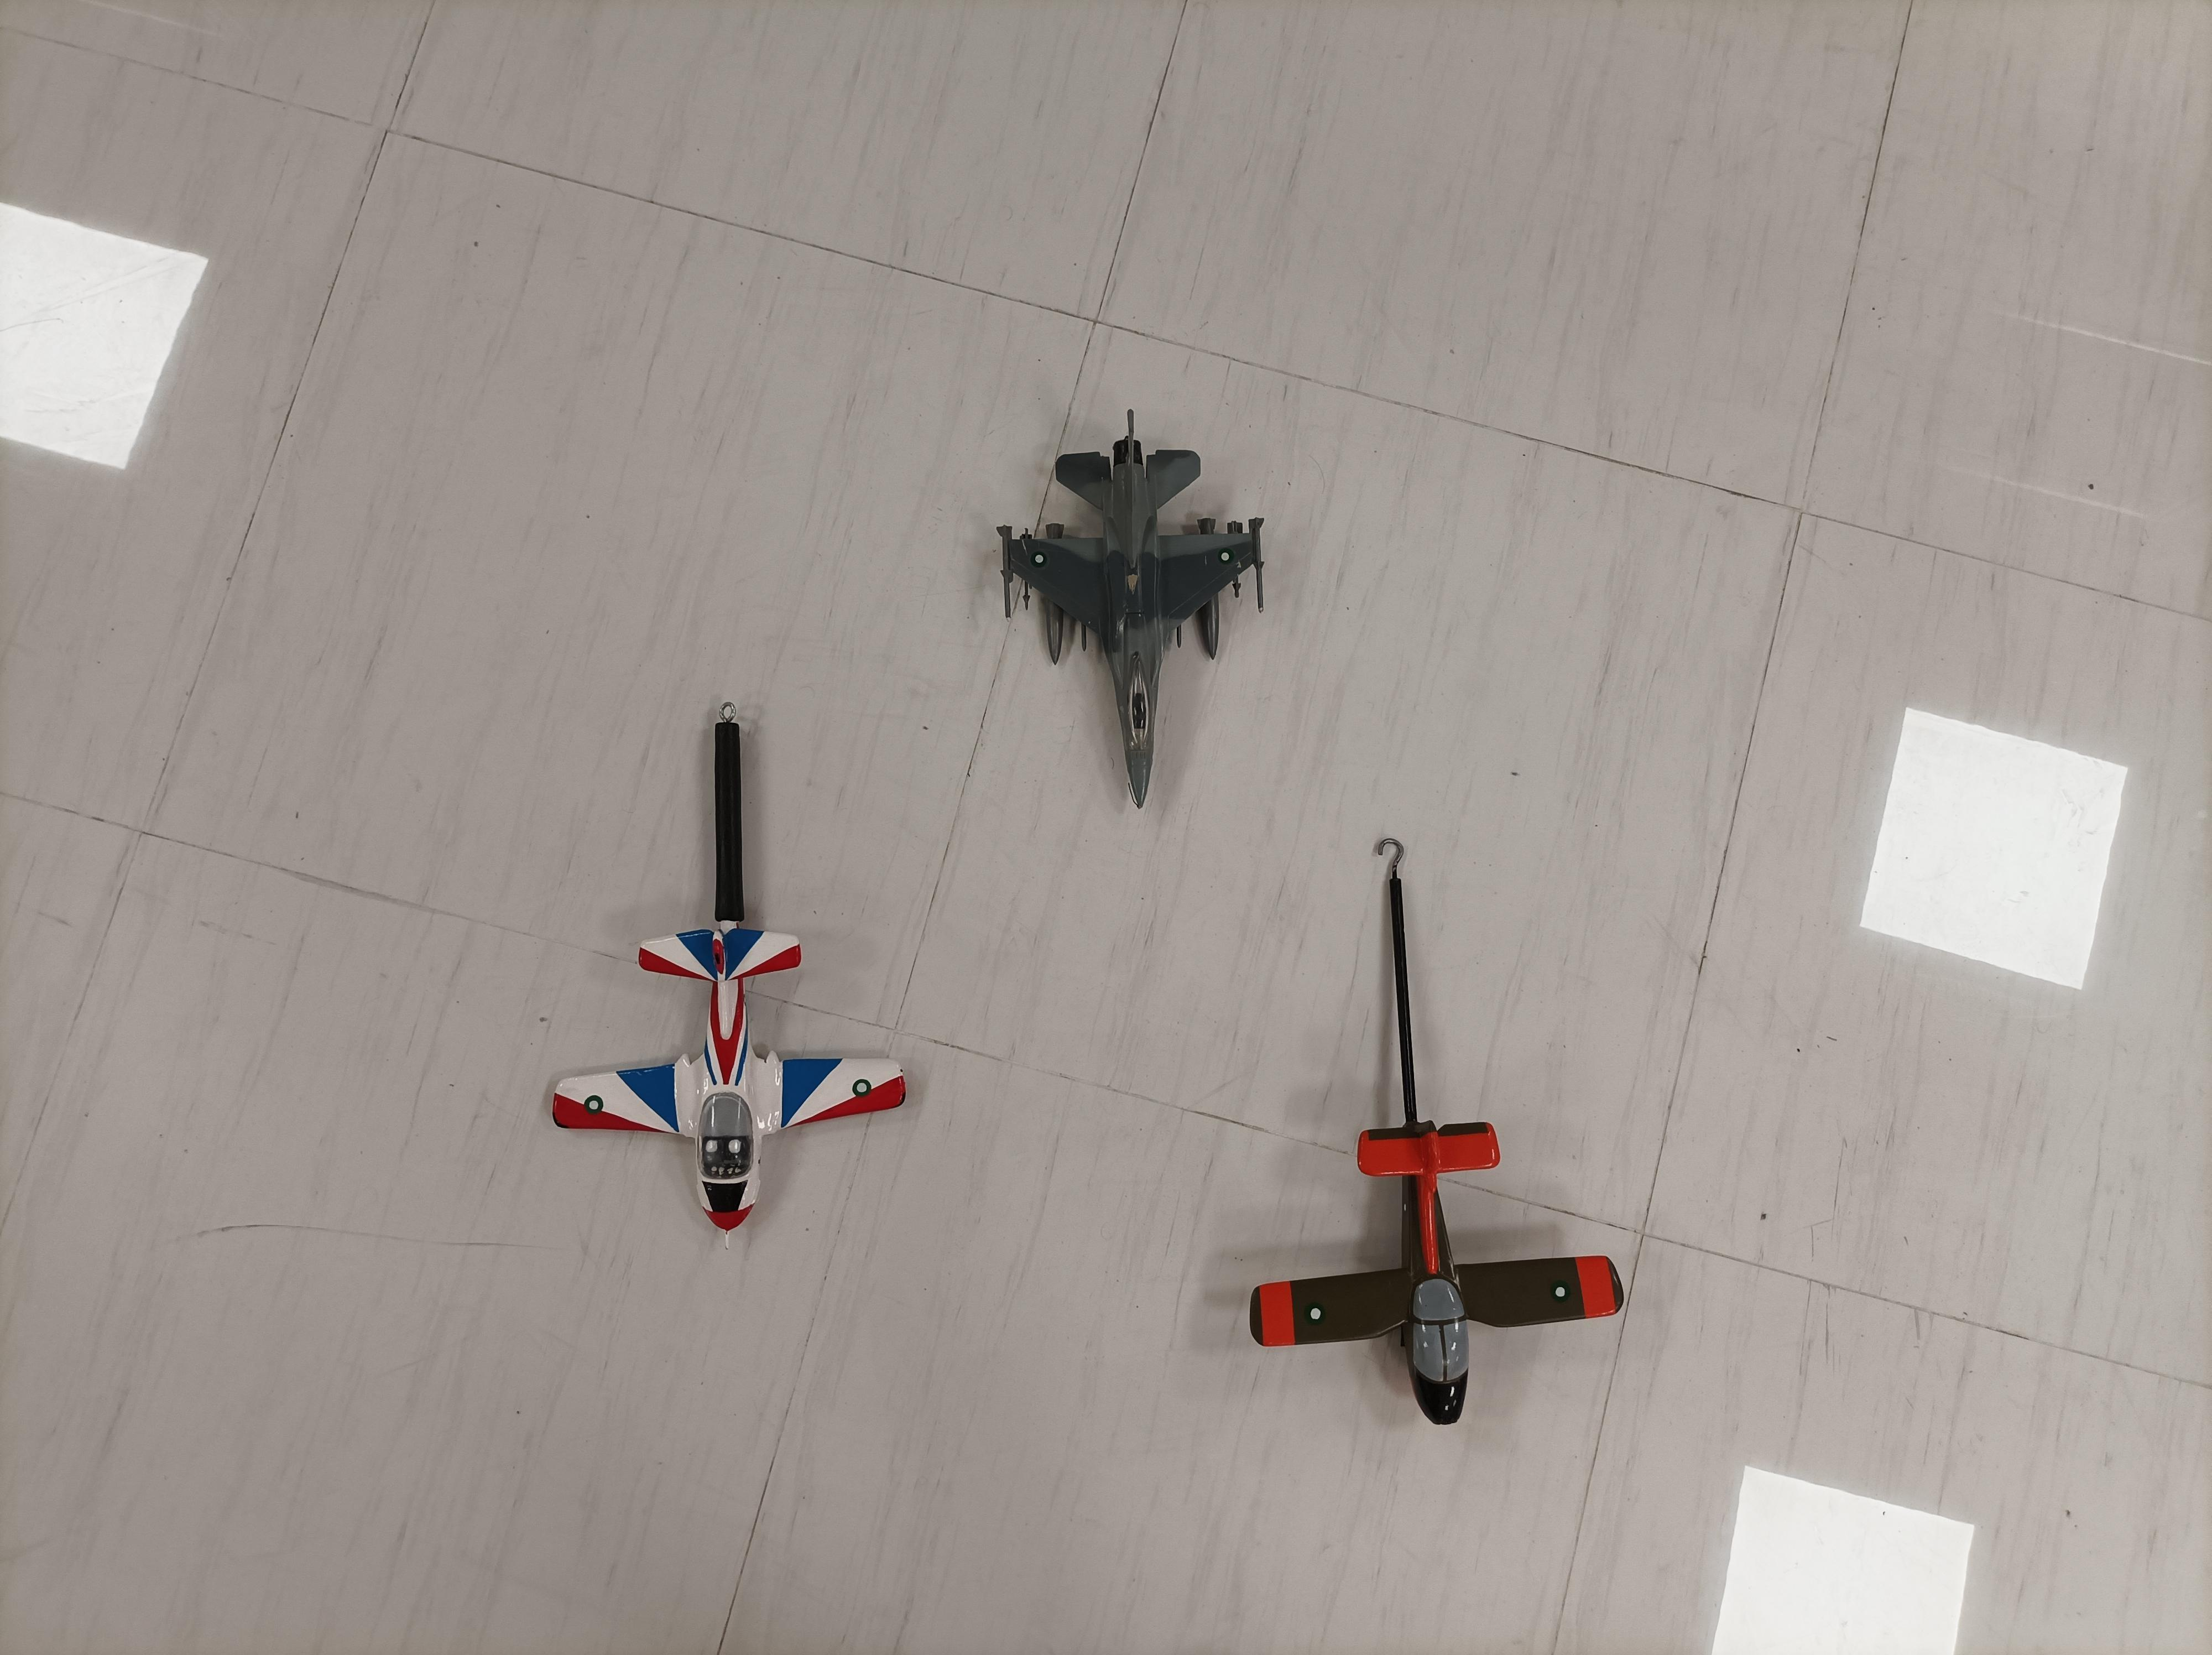Airplane: (1197, 1081, 1656, 1438), (542, 885, 937, 1259), (983, 403, 1305, 821)
